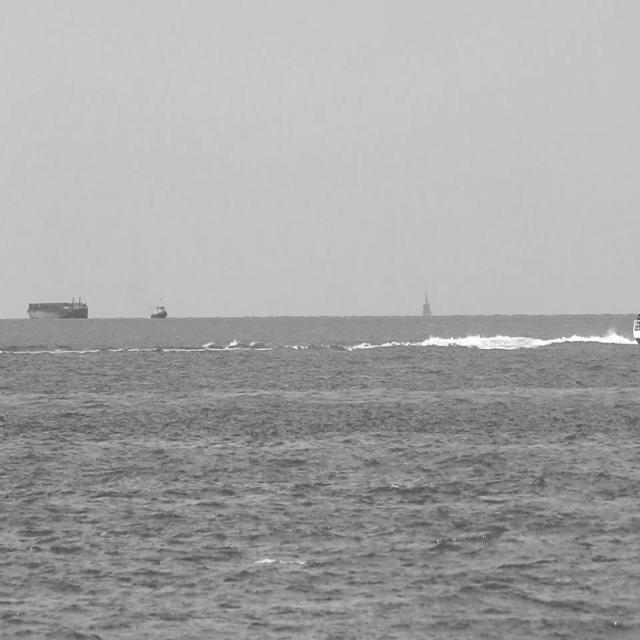ship: (24, 294, 90, 324), (629, 234, 640, 352), (148, 294, 170, 323)
